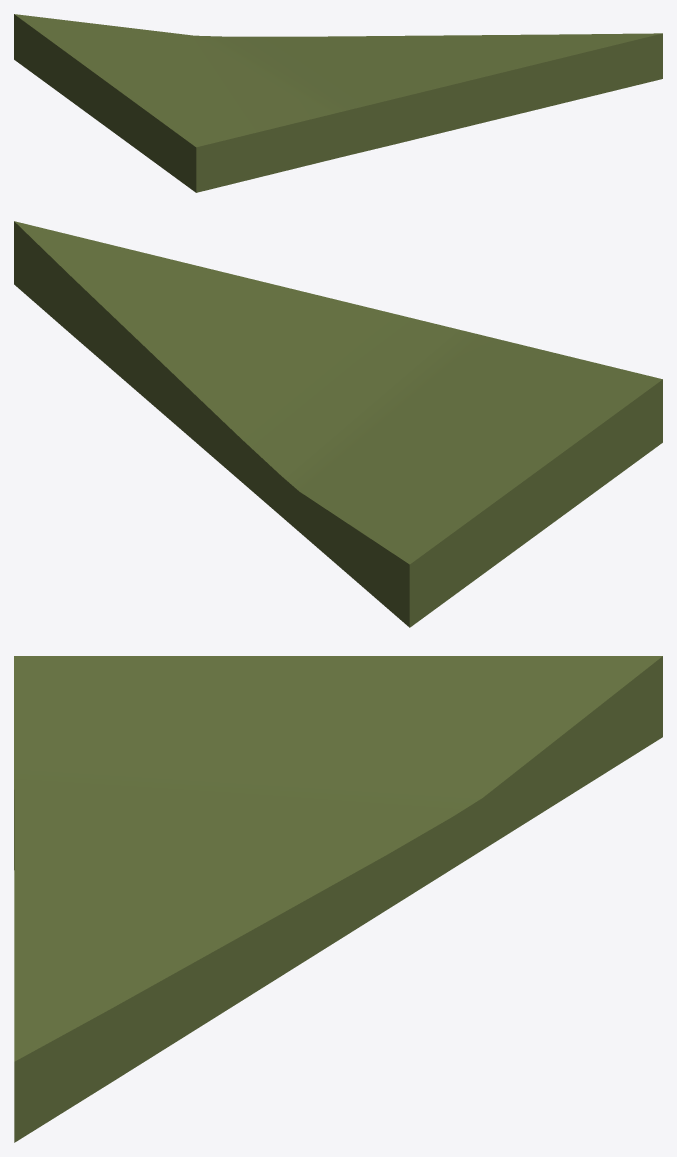
The model's file is ground_04.fbx.
3 renders of one model, top to bottom at view 1: azimuth 30°, elevation 25°; view 2: azimuth 150°, elevation 25°; view 3: azimuth 270°, elevation 25°, orthographic. The views are drawn at different scales.
Visible parts, largest first — view 1: ground_04; view 2: ground_04; view 3: ground_04.
Part boxes in pixels (left/top/right/bottom): ground_04: left=14, top=14, right=662, bottom=192; ground_04: left=14, top=221, right=662, bottom=627; ground_04: left=14, top=656, right=662, bottom=1142.
Bounding box in the file's own units: 26.28 × 2.45 × 17.77.
